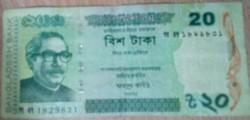20 taka: (4, 9, 250, 115)
